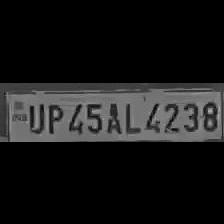2: (160, 98, 180, 132)
3: (180, 97, 200, 131)
4: (64, 99, 84, 134), (141, 98, 161, 132)
5: (84, 99, 104, 134)
8: (199, 97, 219, 130)
A: (103, 98, 123, 134)
L: (120, 97, 140, 133)
P: (43, 99, 63, 134)
U: (24, 100, 43, 132)
